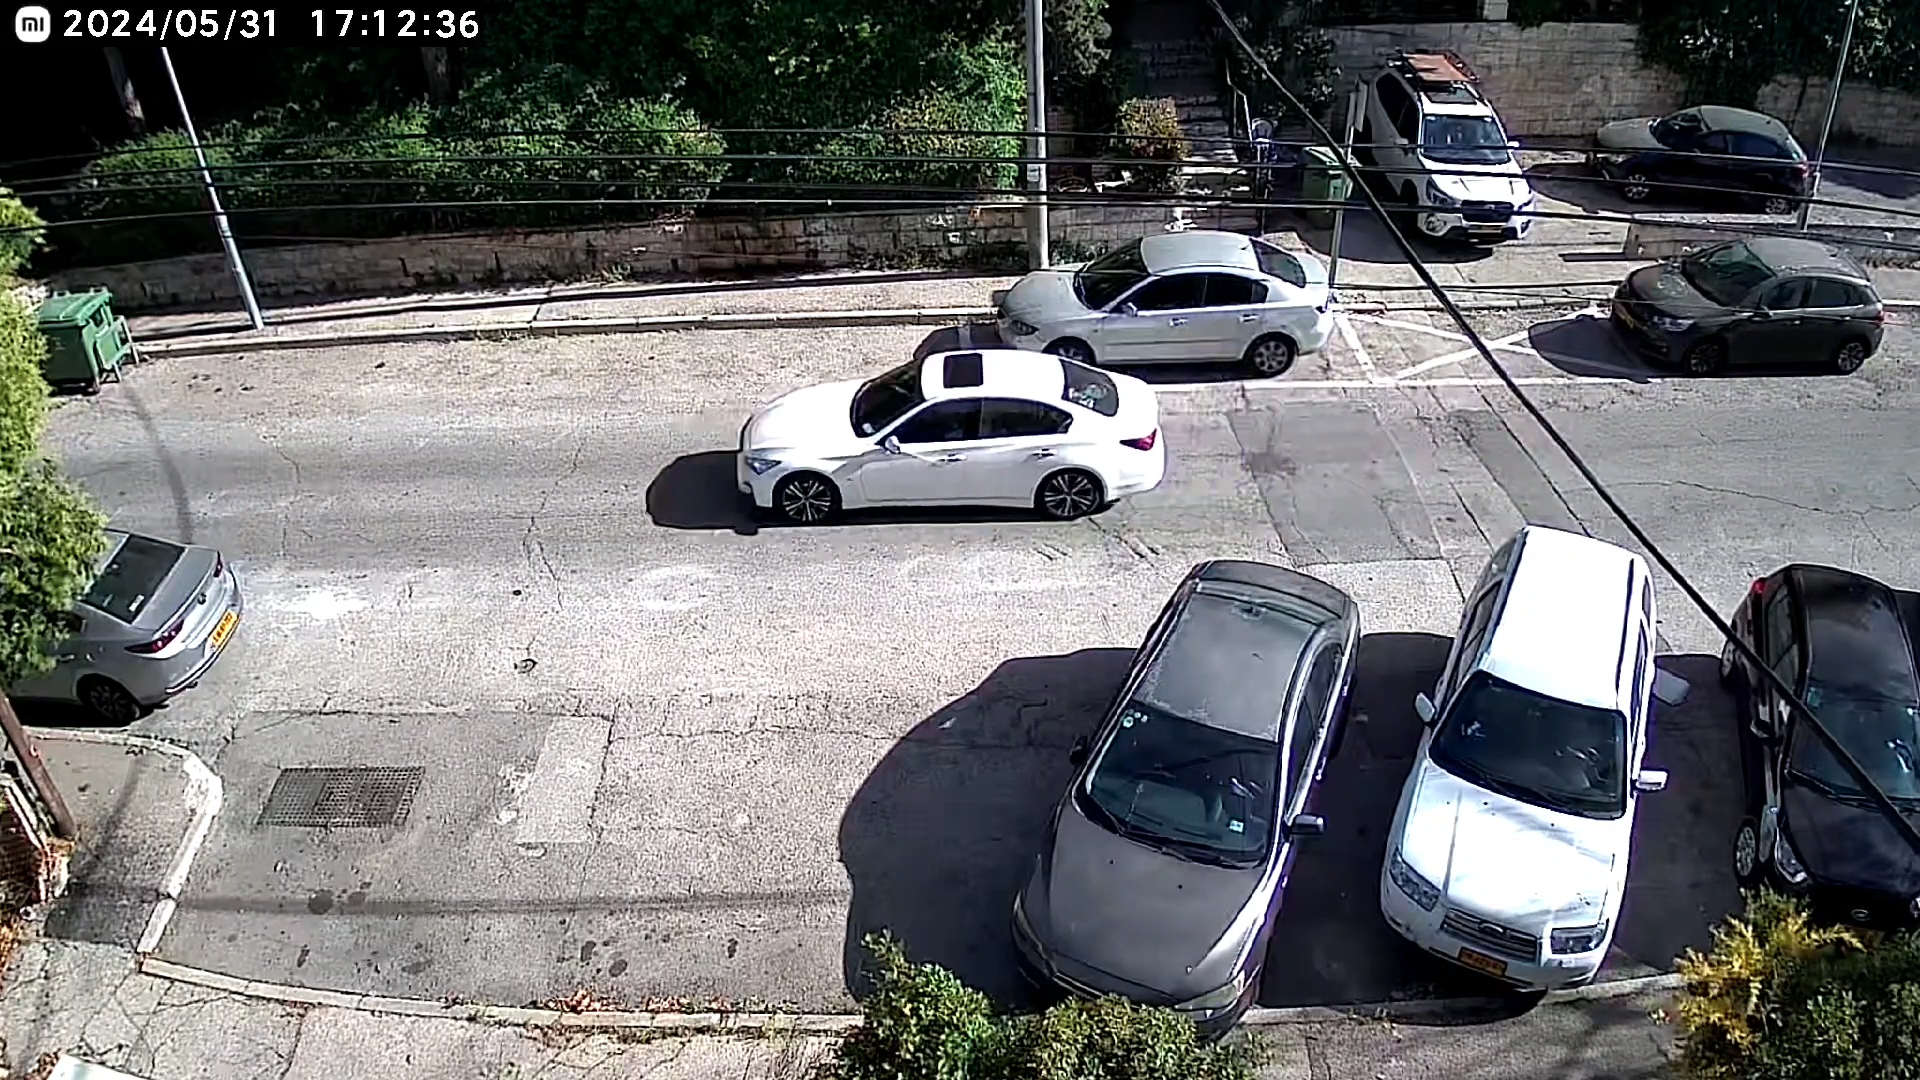moving_car: (775, 462, 1076, 616)
